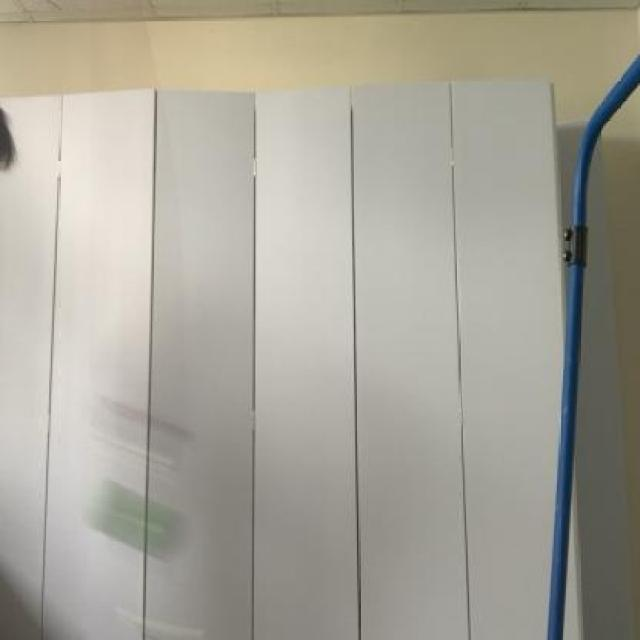baseball: (78, 467, 190, 570)
